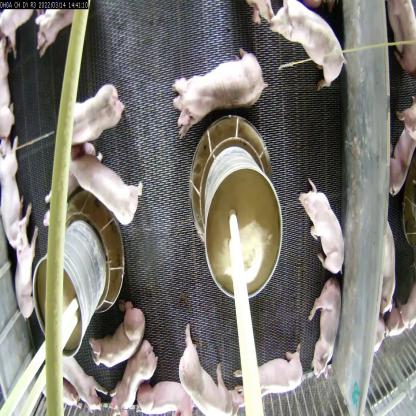Pig: (163, 47, 265, 132), (61, 142, 149, 231), (273, 0, 339, 101), (84, 293, 153, 369), (235, 340, 311, 408), (60, 82, 126, 158), (182, 326, 237, 416), (301, 180, 345, 277), (47, 347, 108, 415), (0, 134, 31, 248), (107, 340, 160, 404), (31, 0, 85, 60), (132, 369, 198, 416), (12, 210, 40, 320), (309, 286, 341, 374)
